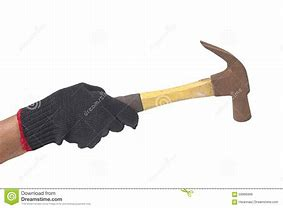hammer: (66, 37, 254, 149)
